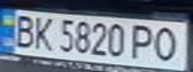0: (106, 20, 130, 58)
2: (90, 20, 112, 57)
5: (54, 16, 75, 54)
8: (72, 18, 93, 55)
B: (9, 11, 39, 48)
K: (30, 14, 57, 52)
O: (151, 25, 187, 63)
P: (127, 21, 160, 61)
